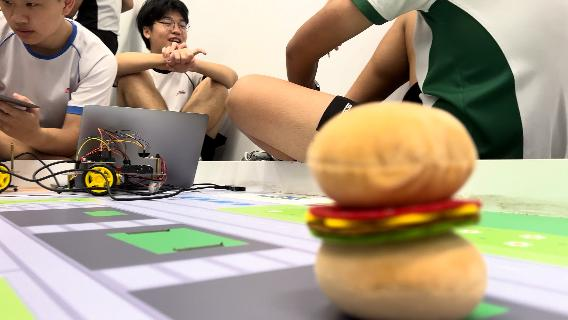burger: (301, 99, 490, 317)
